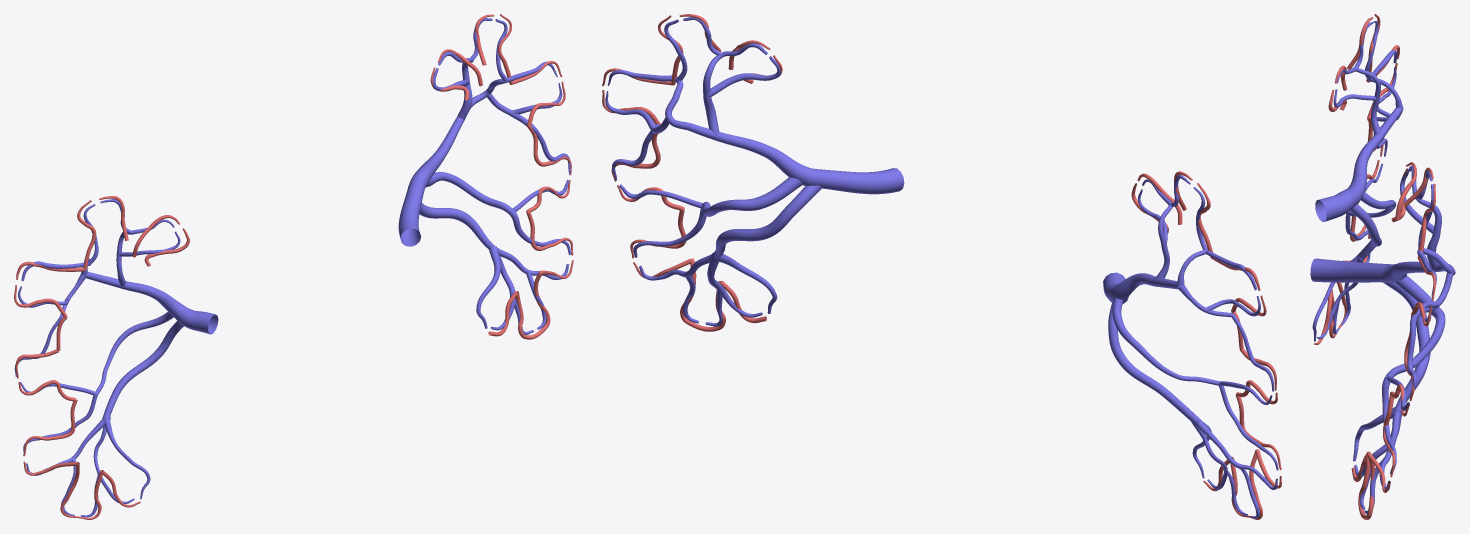
Rendered from cardiovascular.glb.
The picture shows the model from 3 angles, left to right: view 1: azimuth 30°, elevation 25°; view 2: azimuth 150°, elevation 25°; view 3: azimuth 270°, elevation 25°; orthographic projection. The views are drawn at different scales.
Visible parts, largest first — view 1: Intrarenal veins of left kidney, Intrarenal veins of right kidney, Intrarenal arteries of right kidney, Intrarenal arteries of left kidney; view 2: Intrarenal veins of left kidney, Intrarenal veins of right kidney, Intrarenal arteries of left kidney, Intrarenal arteries of right kidney; view 3: Intrarenal veins of left kidney, Intrarenal veins of right kidney, Intrarenal arteries of left kidney, Intrarenal arteries of right kidney.
Part boxes in pixels (<box>): Intrarenal veins of left kidney: <box>398,18,571,334</box>; Intrarenal veins of right kidney: <box>14,199,218,517</box>; Intrarenal arteries of right kidney: <box>14,196,189,519</box>; Intrarenal arteries of left kidney: <box>430,14,573,339</box>; Intrarenal veins of left kidney: <box>605,17,904,326</box>; Intrarenal veins of right kidney: <box>1103,175,1278,518</box>; Intrarenal arteries of left kidney: <box>602,14,782,331</box>; Intrarenal arteries of right kidney: <box>1131,171,1281,519</box>; Intrarenal veins of left kidney: <box>1310,165,1455,514</box>; Intrarenal veins of right kidney: <box>1312,21,1403,341</box>; Intrarenal arteries of left kidney: <box>1351,162,1435,519</box>; Intrarenal arteries of right kidney: <box>1314,14,1399,344</box>.
Size of the model in its own units: 0.1554 by 0.095 by 0.0309.
